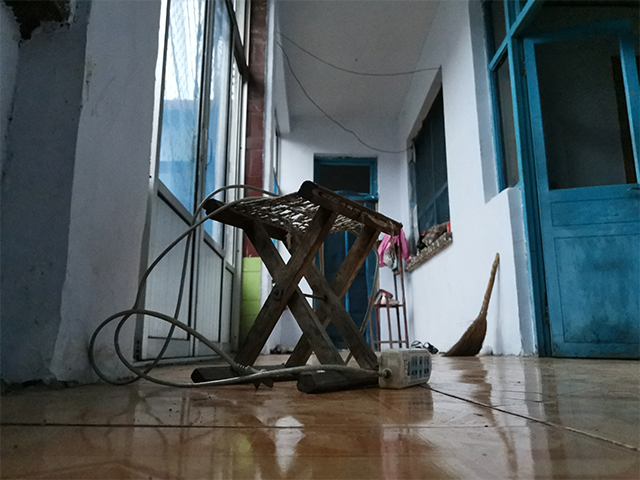stool: (186, 179, 404, 395)
wire: (87, 183, 433, 393)
